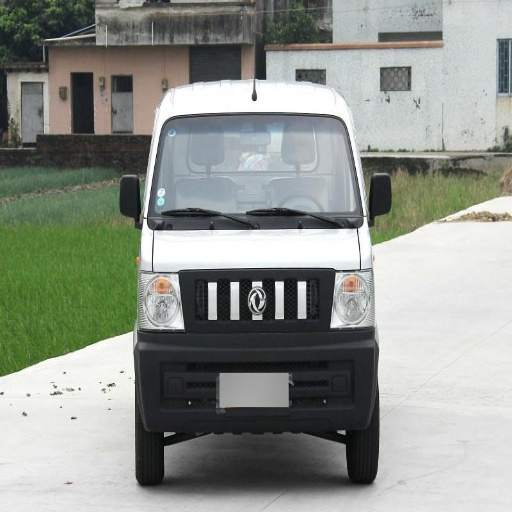front_bumper: (137, 271, 372, 438)
front_right_light: (140, 269, 182, 329)
hood: (150, 228, 361, 272)
